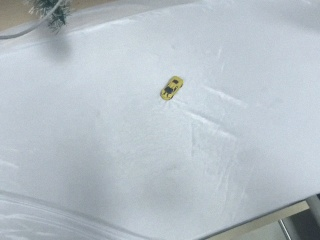toy_car: (157, 75, 184, 105)
